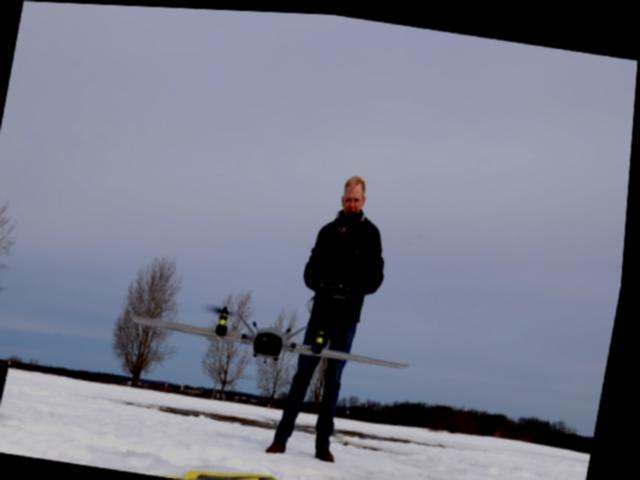plane: (131, 292, 421, 382)
